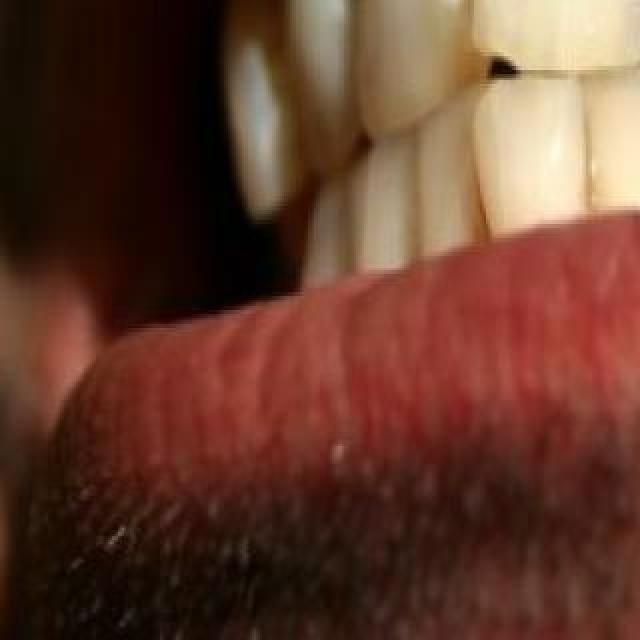cavities: (414, 0, 516, 18)
maligned: (463, 63, 603, 259), (638, 0, 640, 52)
